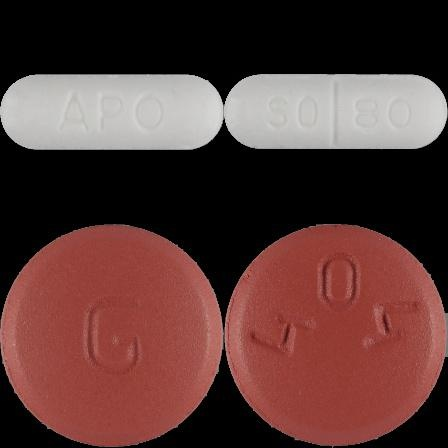50090-1299: (0, 0, 224, 224)
